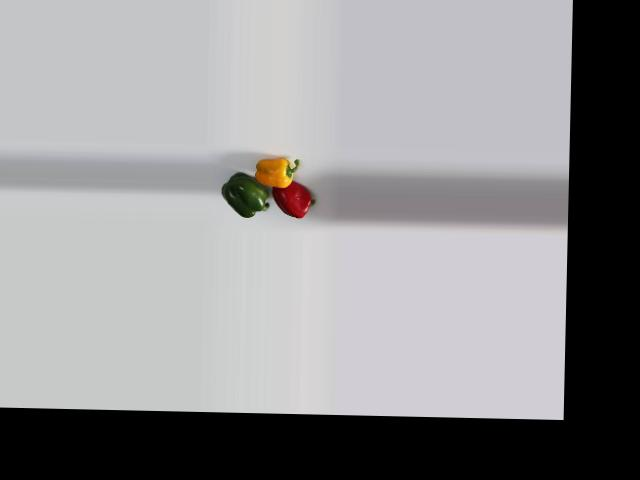bell_pepper: (254, 153, 300, 194)
